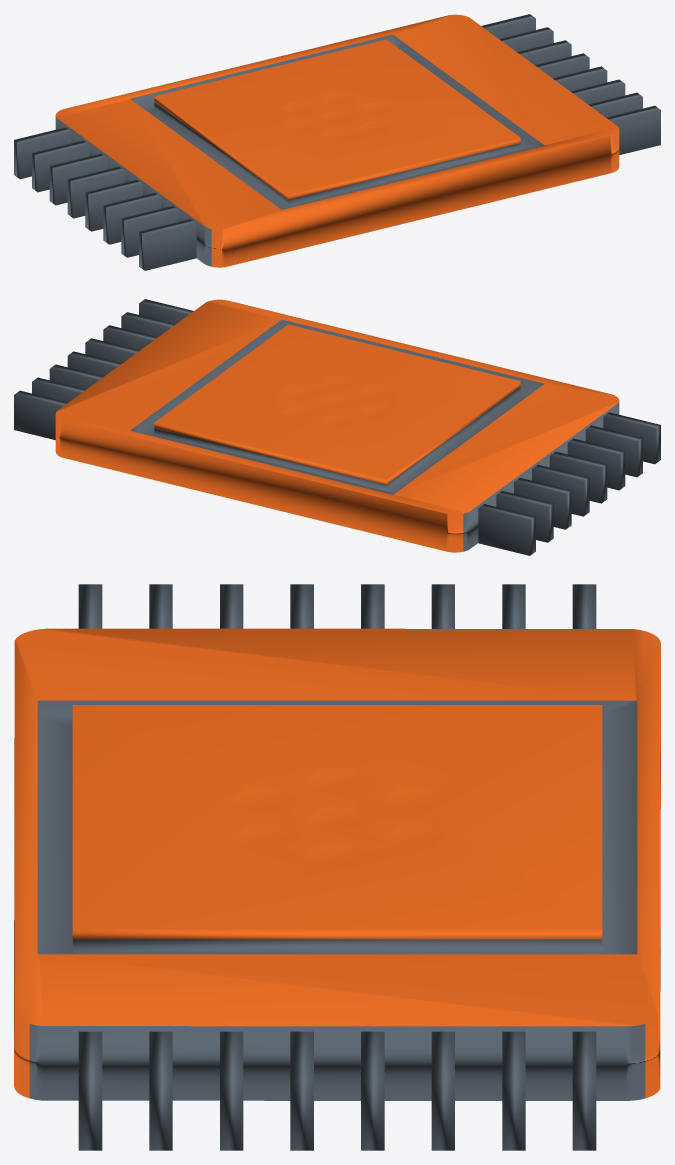
The model's file is plate-04-intelligence.glb.
3 renders of one model, top to bottom at view 1: azimuth 30°, elevation 25°; view 2: azimuth 150°, elevation 25°; view 3: azimuth 270°, elevation 25°, orthographic. The views are drawn at different scales.
Visible parts, largest first — view 1: Plate_04_Intelligence; view 2: Plate_04_Intelligence; view 3: Plate_04_Intelligence.
Part boxes in pixels (<box>): Plate_04_Intelligence: <box>14,14,660,270</box>; Plate_04_Intelligence: <box>14,299,660,555</box>; Plate_04_Intelligence: <box>14,584,660,1150</box>.
Bounding box in the file's own units: 0.2 × 0.016 × 0.11.
